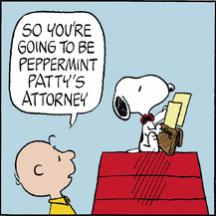charlie: (14, 134, 76, 216)
snoopy: (113, 74, 181, 154)
